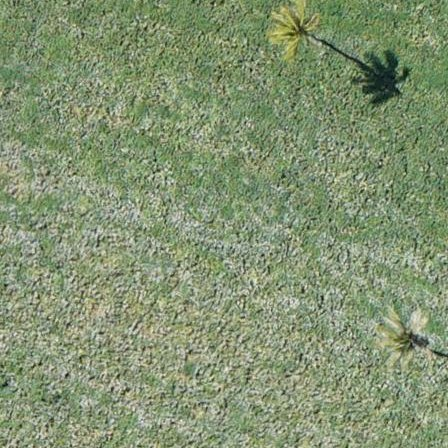palm_tree: (369, 305, 429, 370), (271, 1, 320, 54)
